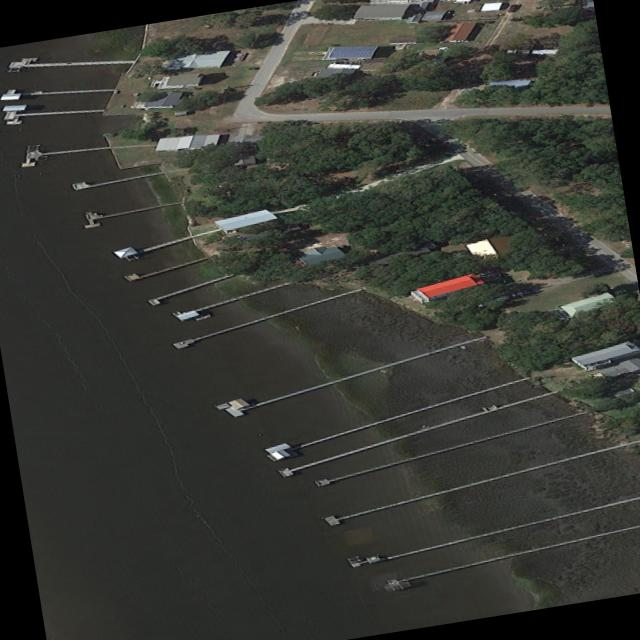small-vehicle: (509, 288, 532, 296), (478, 269, 496, 275), (506, 3, 517, 12), (333, 61, 349, 64)
